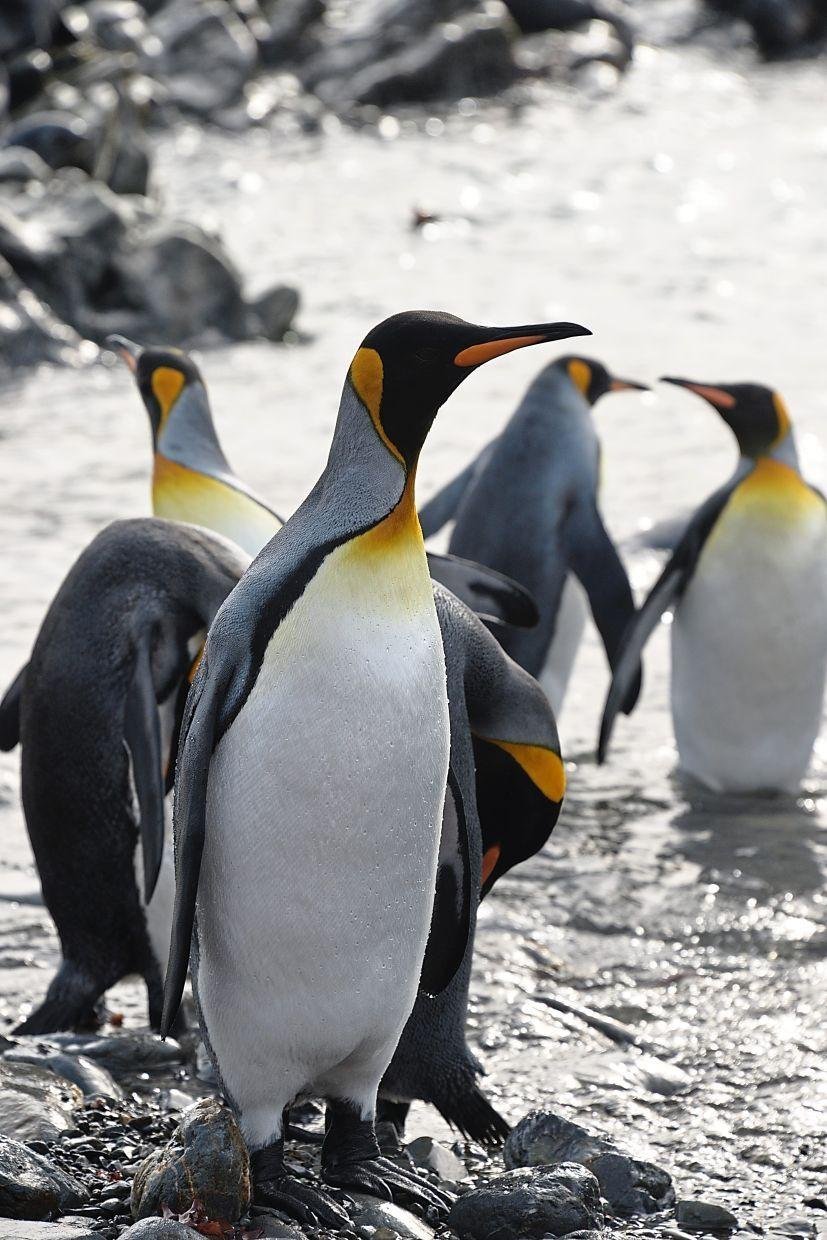Penguin: (165, 312, 575, 1226), (0, 518, 249, 1032), (371, 575, 564, 1147), (598, 378, 825, 793), (419, 356, 646, 710), (104, 334, 283, 555)
